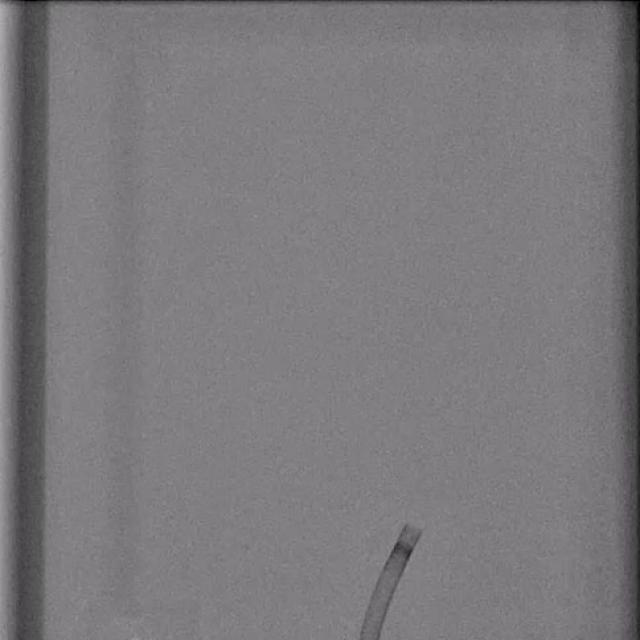entry: (359, 634, 378, 640)
marker: (392, 540, 414, 557)
tip: (406, 524, 422, 536)
